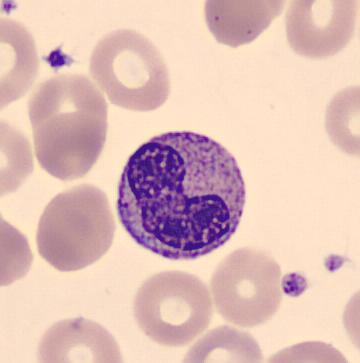Platelets: (278, 269, 311, 300), (41, 45, 75, 73), (320, 249, 348, 276)
RBC: (31, 180, 119, 275), (85, 24, 175, 115), (129, 266, 216, 349), (208, 243, 286, 330), (29, 110, 110, 183), (32, 313, 128, 363), (281, 1, 359, 62), (176, 322, 267, 362), (200, 1, 275, 49), (319, 79, 359, 162), (261, 336, 358, 363), (339, 282, 360, 363)
WBC: (107, 116, 254, 271)
